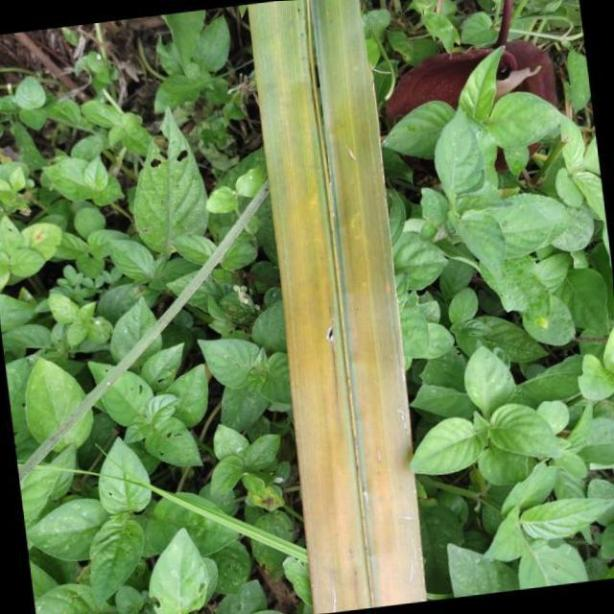Megnesium: (249, 0, 427, 614)
